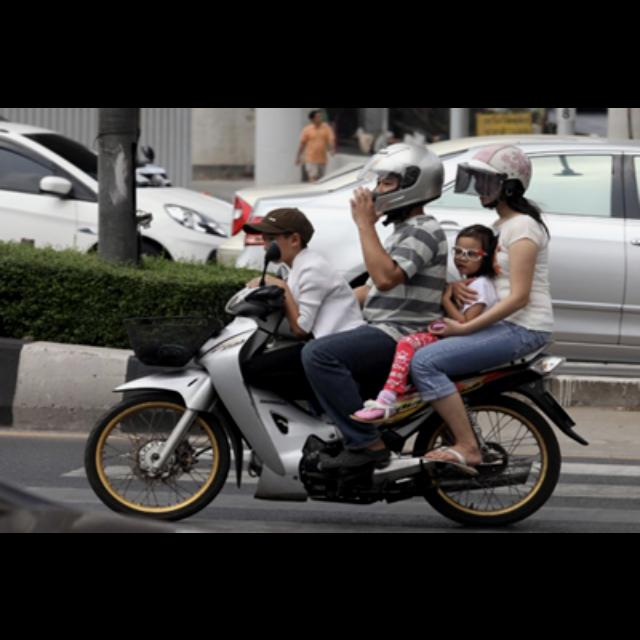With Helmet: (358, 136, 448, 224), (454, 134, 536, 212)
